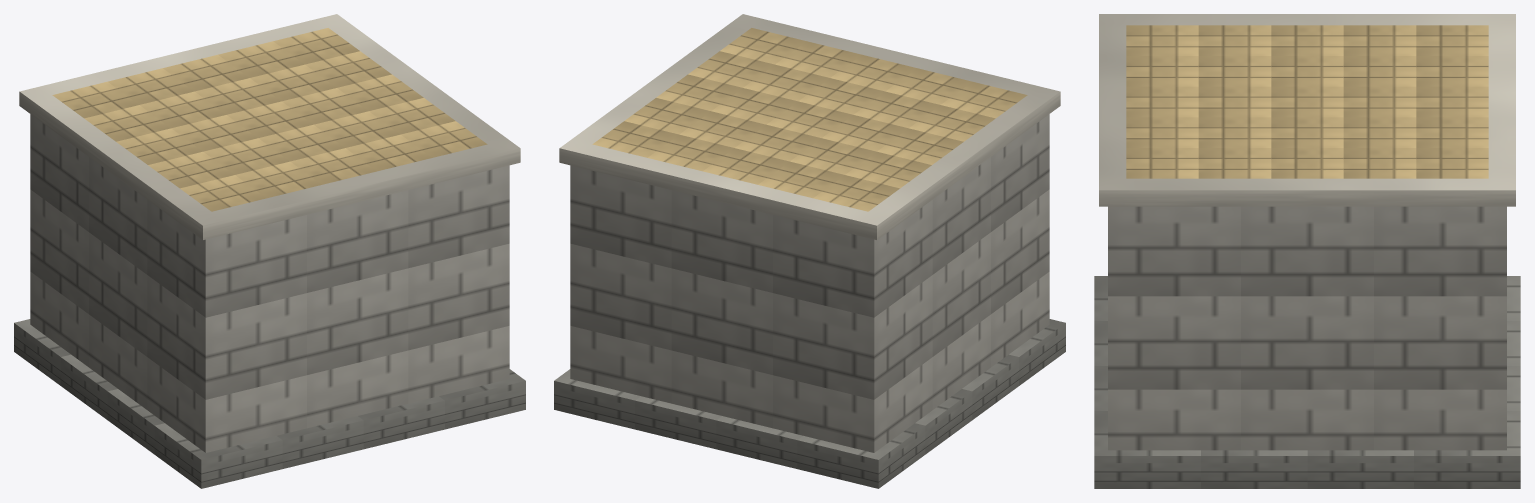
File: terrace_platform_36_01.glb
3 views of the same model, side by side, from view 1: azimuth 30°, elevation 25°; view 2: azimuth 150°, elevation 25°; view 3: azimuth 270°, elevation 25° (orthographic). The views are drawn at different scales.
Parts seen in each view (by area): view 1: terrace_platform_36_01; view 2: terrace_platform_36_01; view 3: terrace_platform_36_01.
Boxes of the visible parts, left/top/right/bottom form: terrace_platform_36_01: left=14, top=14, right=525, bottom=488; terrace_platform_36_01: left=554, top=14, right=1065, bottom=488; terrace_platform_36_01: left=1094, top=14, right=1520, bottom=488.
Bounding box in the file's own units: 4.69 × 3.6 × 4.69.
Materials: 1 (1 with a texture image).
